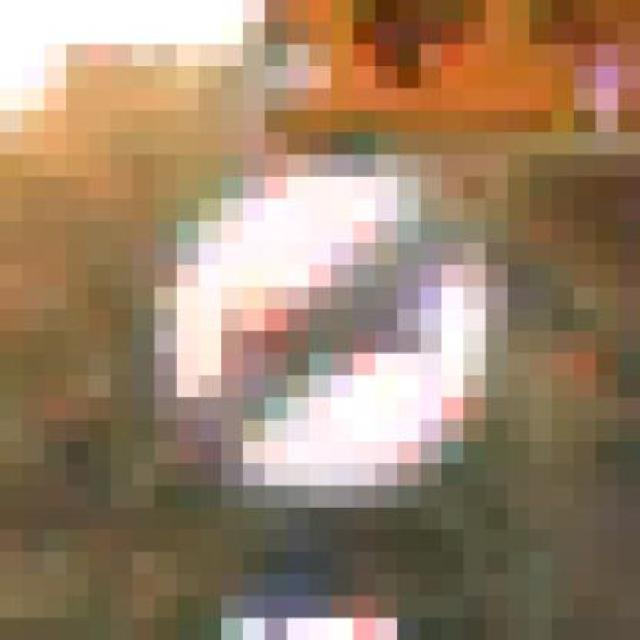No_Over_Taking: (89, 110, 552, 530)
